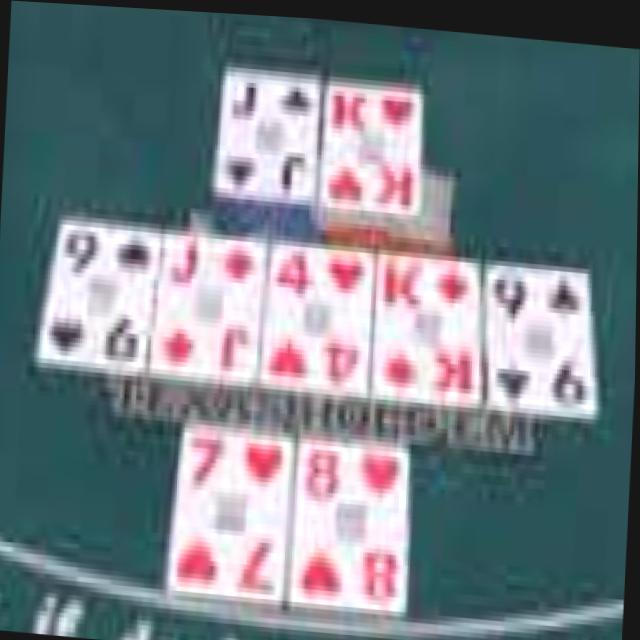Card-4: (263, 241, 374, 393)
Card-7: (169, 423, 295, 605)
Card-8: (291, 436, 410, 609)
Card-9: (37, 220, 161, 371), (488, 262, 599, 409)
Card-J: (152, 232, 268, 384), (214, 65, 321, 200)
Card-K: (374, 246, 481, 396), (320, 76, 422, 208)
